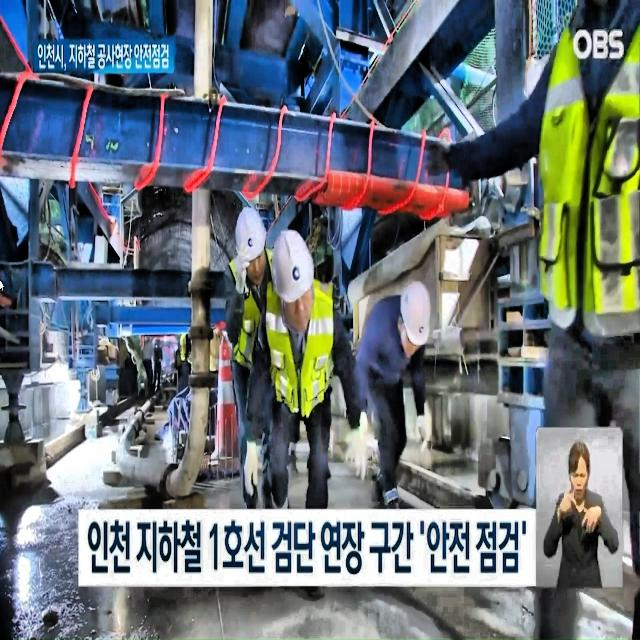safety_helmet: (265, 226, 318, 304), (398, 280, 432, 349), (235, 206, 270, 261)
safety_jacket: (538, 25, 640, 331), (264, 289, 334, 408), (224, 248, 283, 374)
